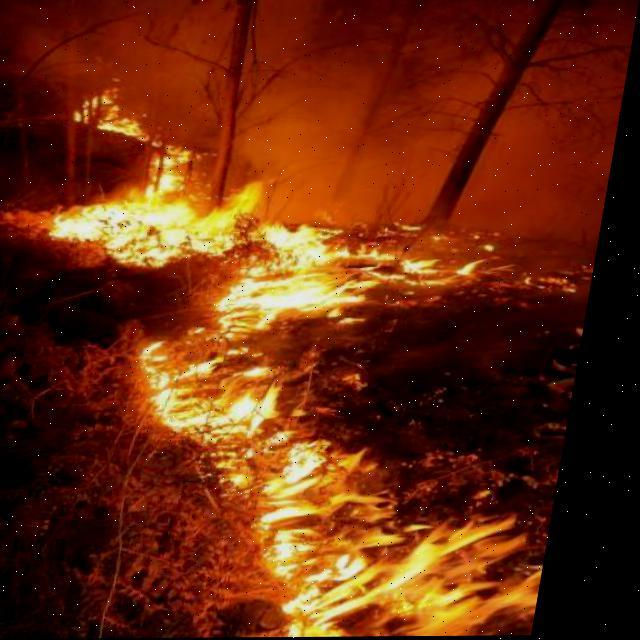Fire: (10, 84, 616, 638)
